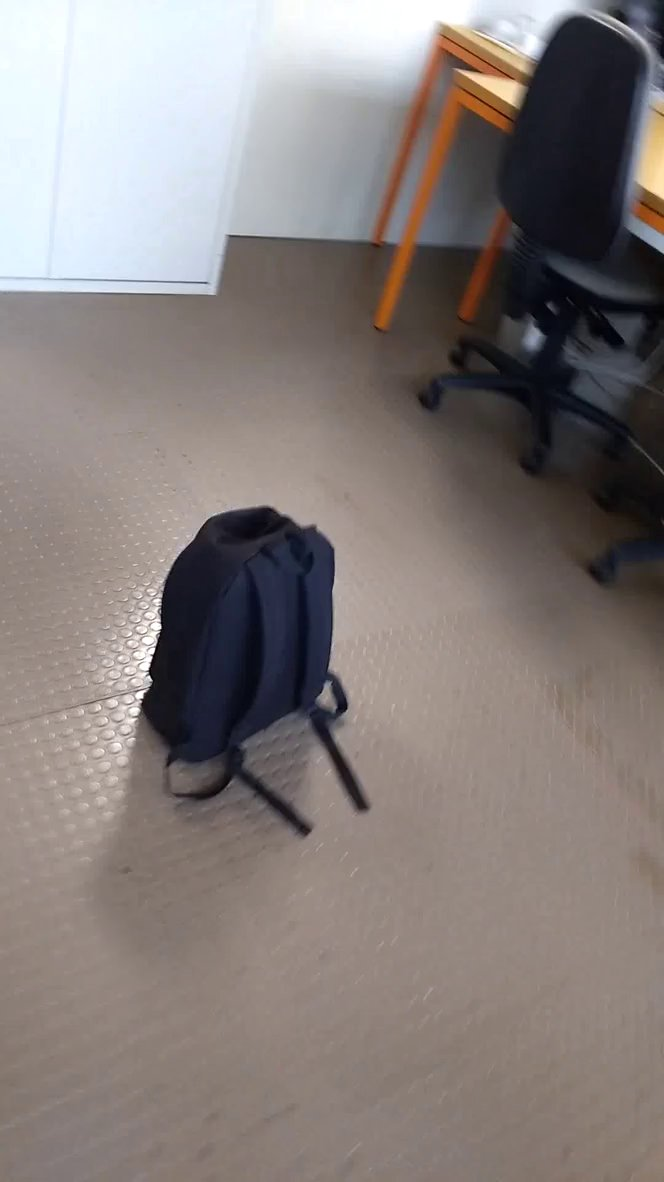bag: (135, 496, 401, 845)
chair: (474, 2, 664, 356)
